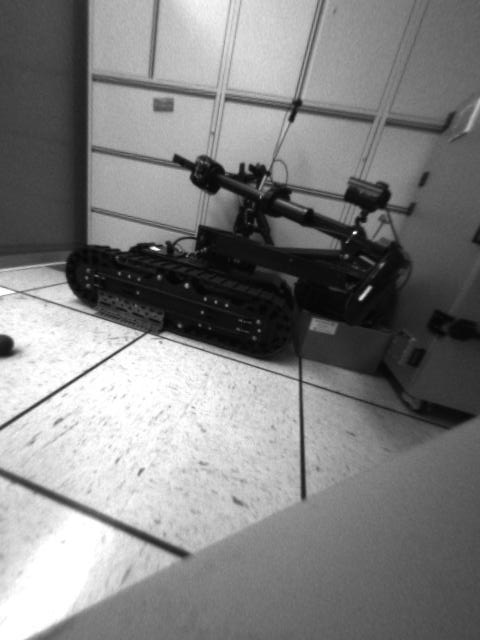dogtoy: (1, 327, 21, 363)
